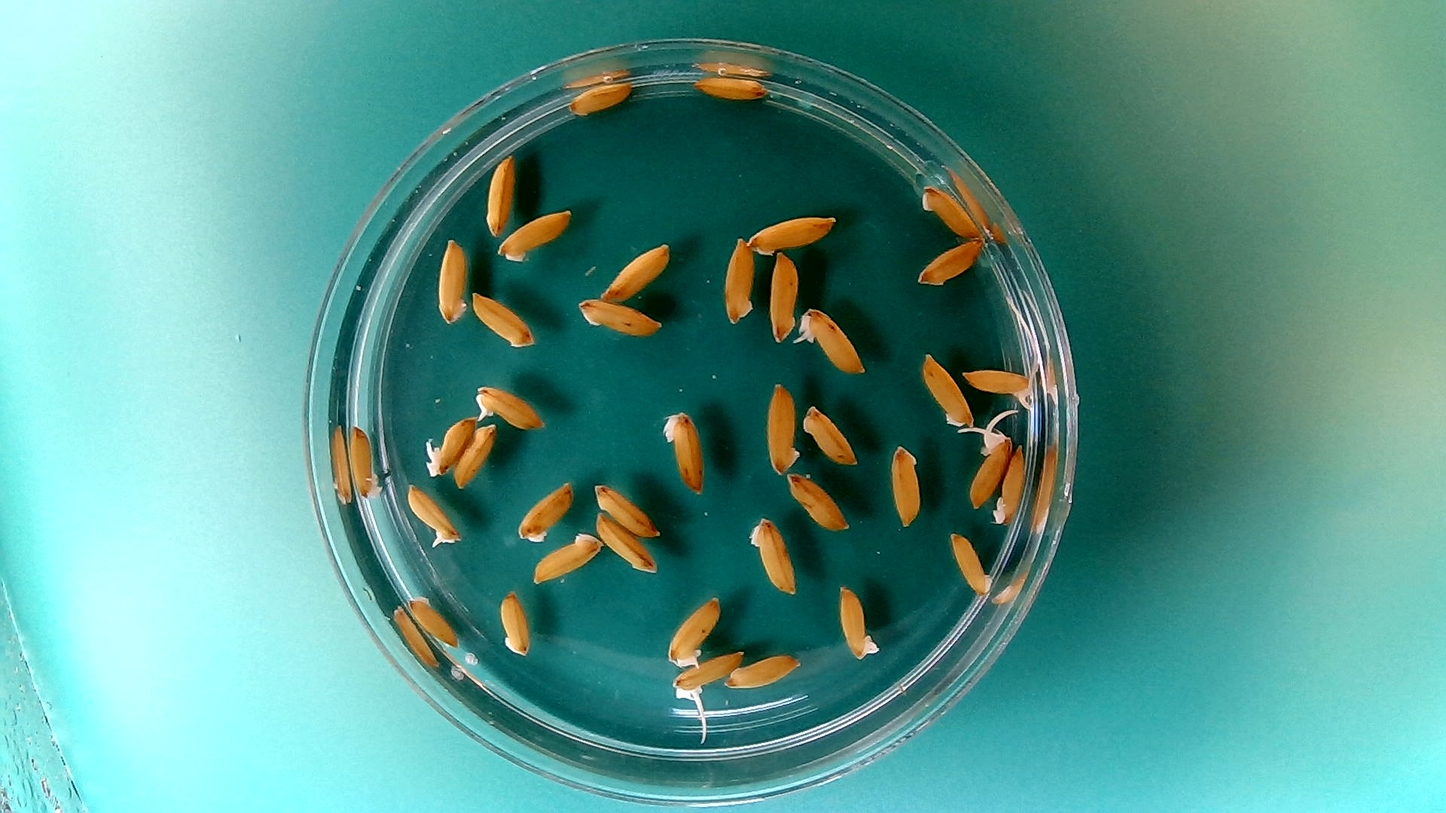no: (598, 237, 674, 303), (661, 590, 722, 668), (495, 205, 576, 263), (658, 406, 709, 498), (917, 351, 975, 431), (746, 512, 799, 598), (528, 528, 605, 585), (593, 510, 660, 574), (513, 477, 576, 544), (746, 209, 837, 255), (785, 469, 850, 532), (469, 289, 536, 350), (590, 482, 662, 538), (916, 180, 983, 239), (835, 580, 881, 663), (763, 378, 801, 475), (574, 296, 661, 338), (915, 236, 986, 287), (451, 419, 499, 492), (721, 233, 757, 327), (433, 234, 470, 325), (946, 528, 994, 598), (724, 649, 805, 690), (991, 441, 1029, 527), (405, 590, 460, 649), (768, 248, 801, 345), (347, 422, 386, 504), (887, 440, 923, 528), (482, 151, 517, 238), (497, 586, 535, 661), (567, 77, 635, 117), (688, 72, 771, 102)
yes: (794, 303, 868, 376), (668, 647, 747, 704), (403, 480, 462, 550), (966, 425, 1013, 510), (472, 380, 548, 432), (801, 400, 859, 466), (957, 363, 1039, 407), (423, 412, 477, 477)
